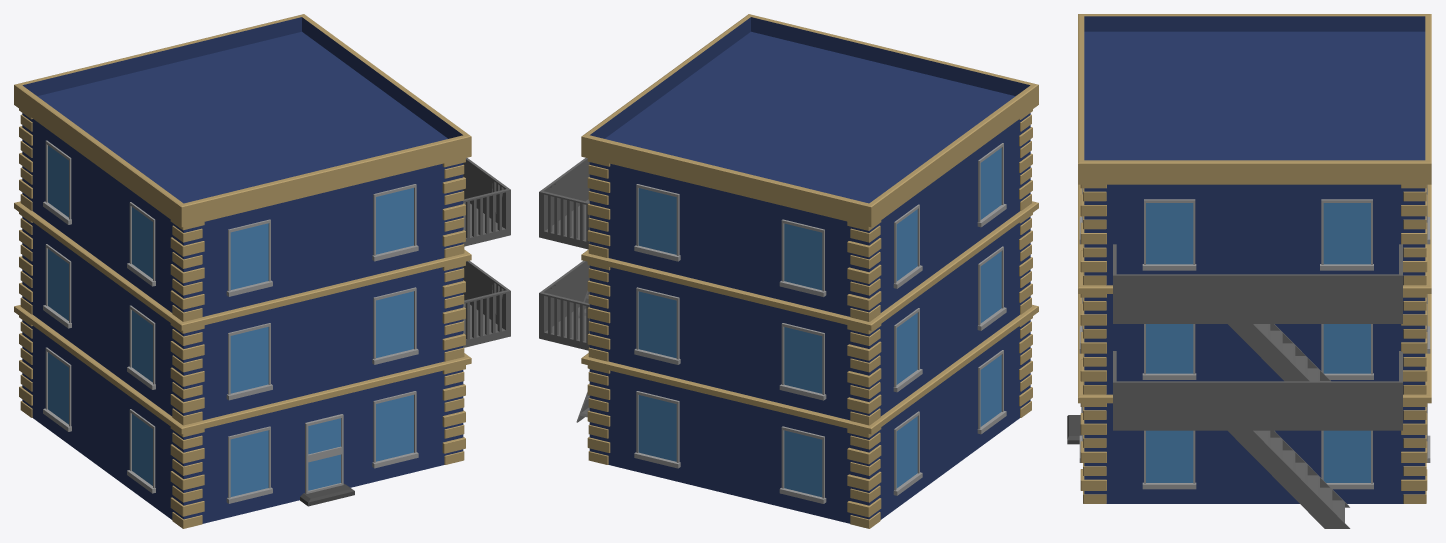
Rendered from GebouwBlauwLaag.fbx.
The picture shows the model from 3 angles, left to right: view 1: azimuth 30°, elevation 25°; view 2: azimuth 150°, elevation 25°; view 3: azimuth 270°, elevation 25°; orthographic projection. The views are drawn at different scales.
Visible parts, largest first — view 1: gebouwBlauwLaag; view 2: gebouwBlauwLaag; view 3: gebouwBlauwLaag.
Part boxes in pixels (x1,y1,x2,y2): gebouwBlauwLaag: (14,14,510,528); gebouwBlauwLaag: (539,14,1038,528); gebouwBlauwLaag: (1067,14,1431,528).
Bounding box in the file's own units: 742 × 667 × 641.
